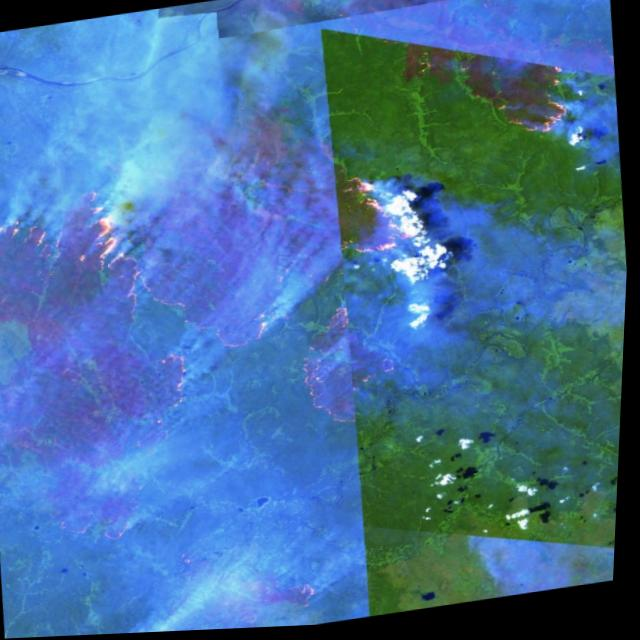fire: (0, 166, 164, 350), (292, 300, 408, 446), (329, 168, 430, 267), (489, 60, 584, 151), (280, 577, 332, 618)
